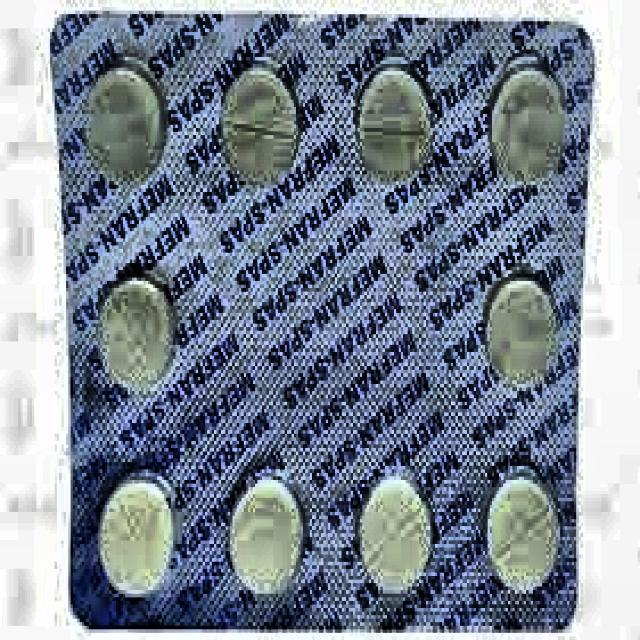Meftal: (59, 24, 581, 616)
